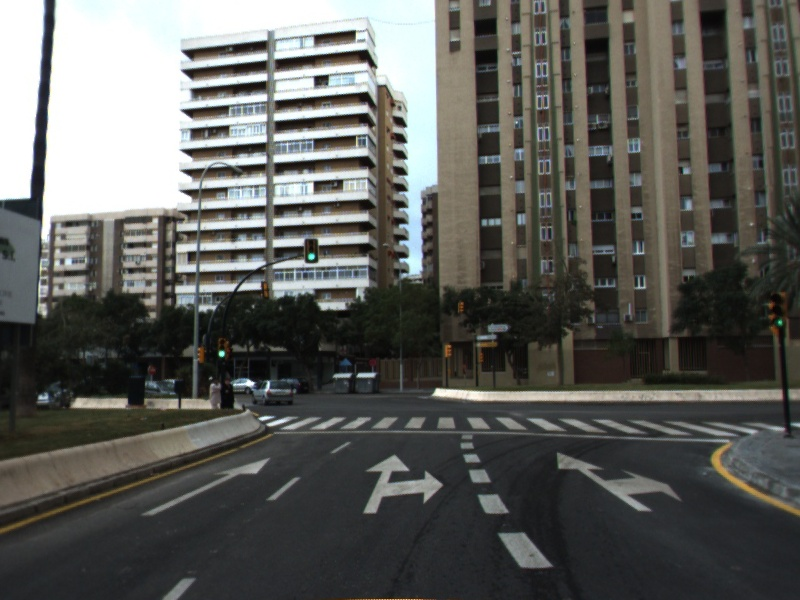STRAIGHT: (139, 455, 273, 518)
STRAIGHT_RIGHT: (555, 450, 685, 513), (361, 452, 446, 516)
